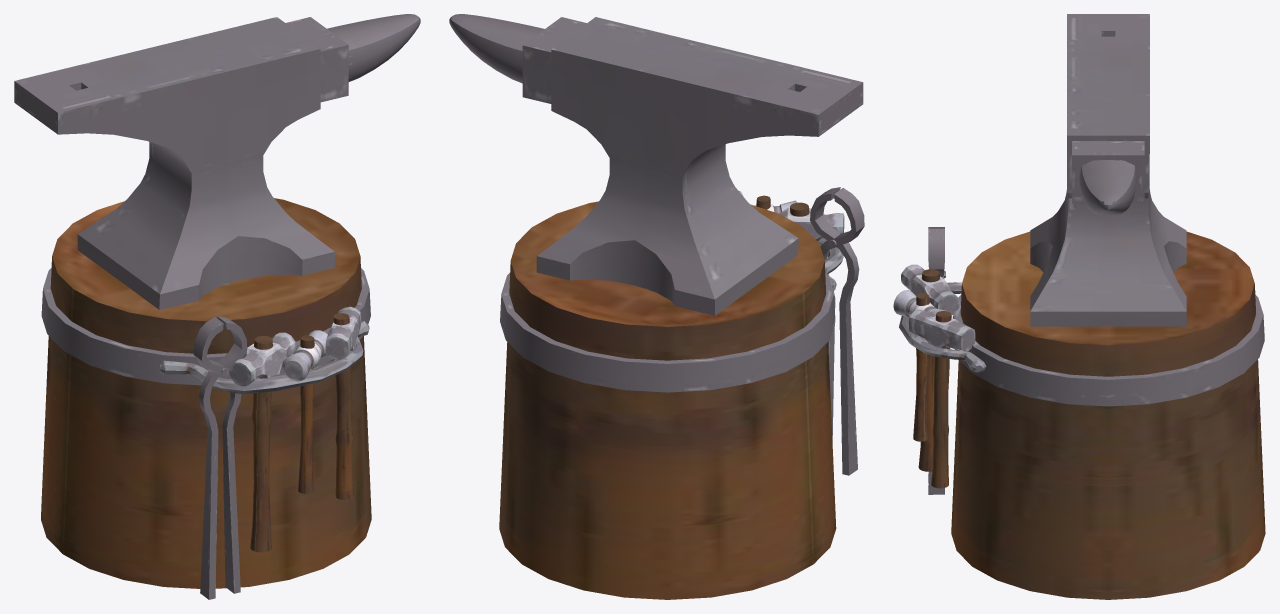
File: Anvil_Log.glb
3 views of the same model, side by side, from view 1: azimuth 30°, elevation 25°; view 2: azimuth 150°, elevation 25°; view 3: azimuth 270°, elevation 25° (orthographic). The views are drawn at different scales.
Parts seen in each view (by area): view 1: Anvil_Log; view 2: Anvil_Log; view 3: Anvil_Log.
Boxes of the visible parts, bbox=[...] form: Anvil_Log: bbox=[14, 14, 420, 599]; Anvil_Log: bbox=[449, 14, 864, 599]; Anvil_Log: bbox=[893, 14, 1265, 599].
Size of the model in its own units: 0.9293 by 1.07 by 0.8214.
Materials: 3 (3 with a texture image).
